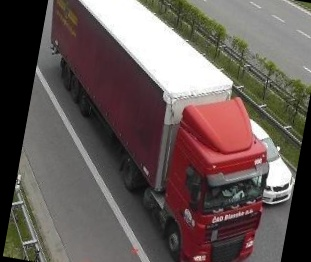car: (223, 113, 305, 211)
